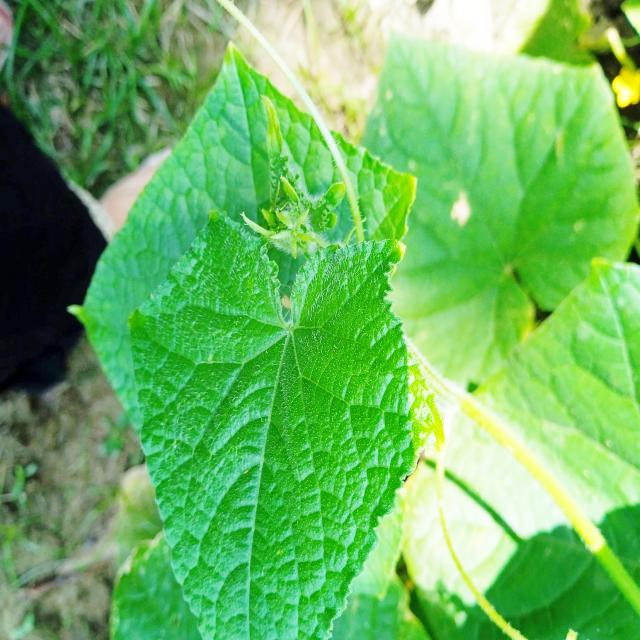Fresh-Leaf: (127, 211, 451, 640)
